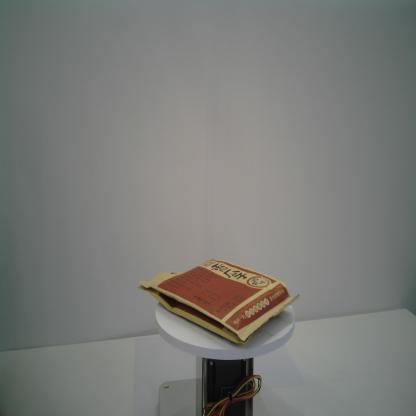Dried Food: (136, 257, 300, 344)
